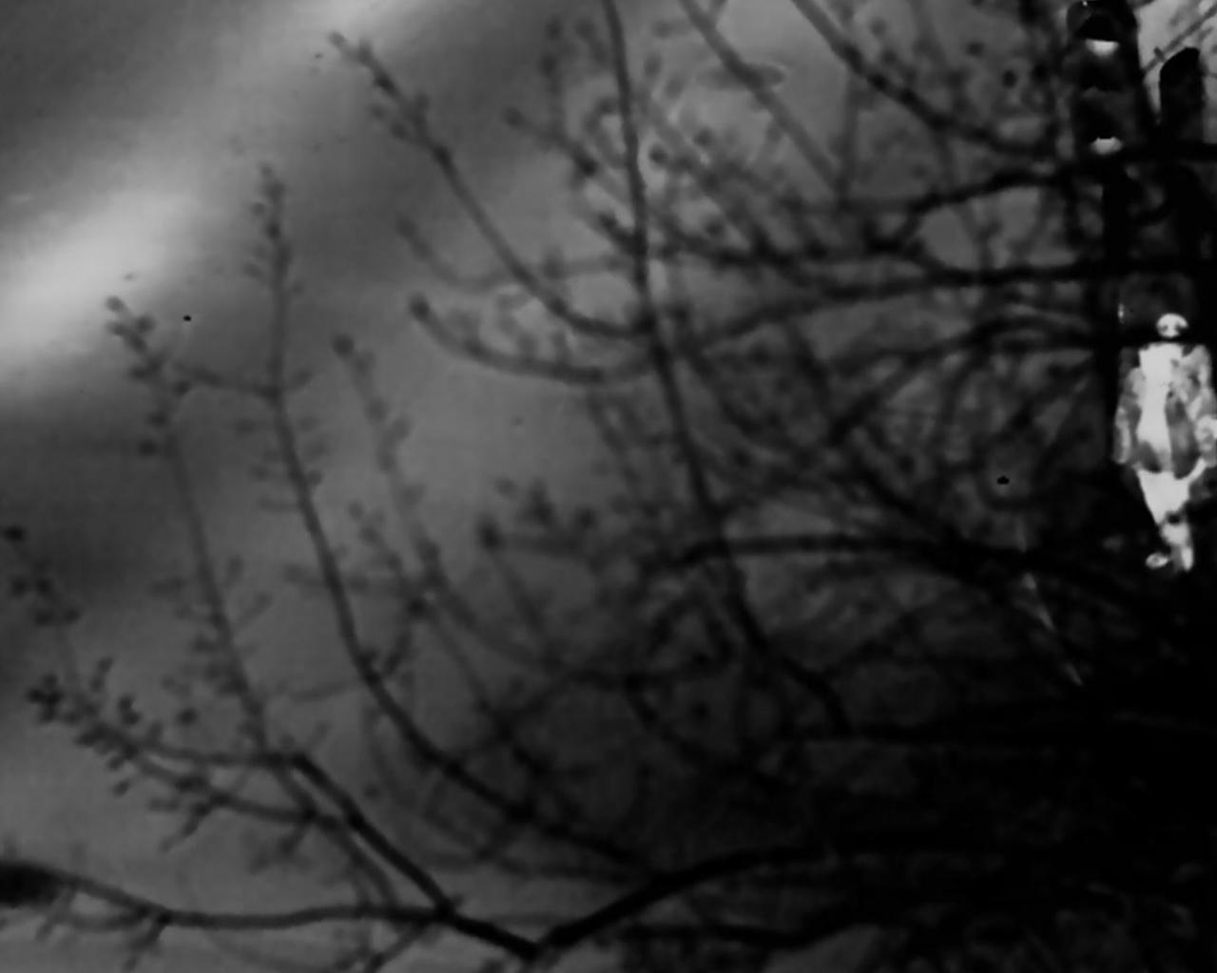person: (1121, 306, 1214, 575)
